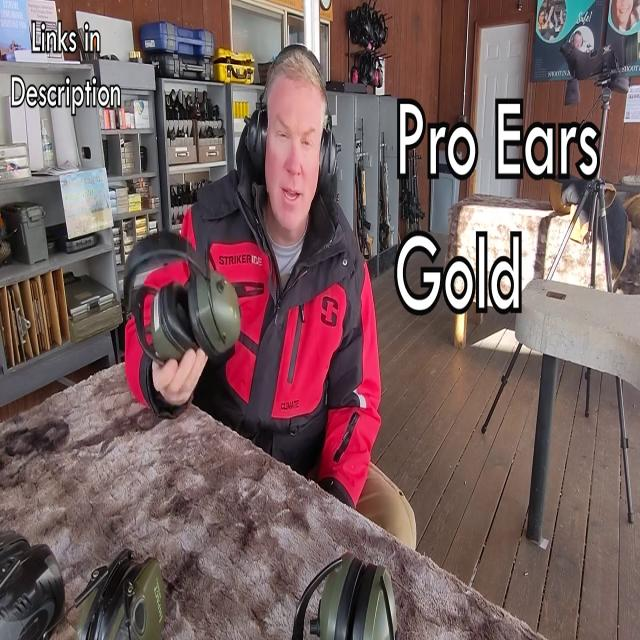earmuff: (187, 268, 242, 361), (148, 279, 197, 360), (242, 102, 270, 181), (317, 124, 343, 199)
